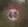limite 60: (3, 3, 23, 25)
